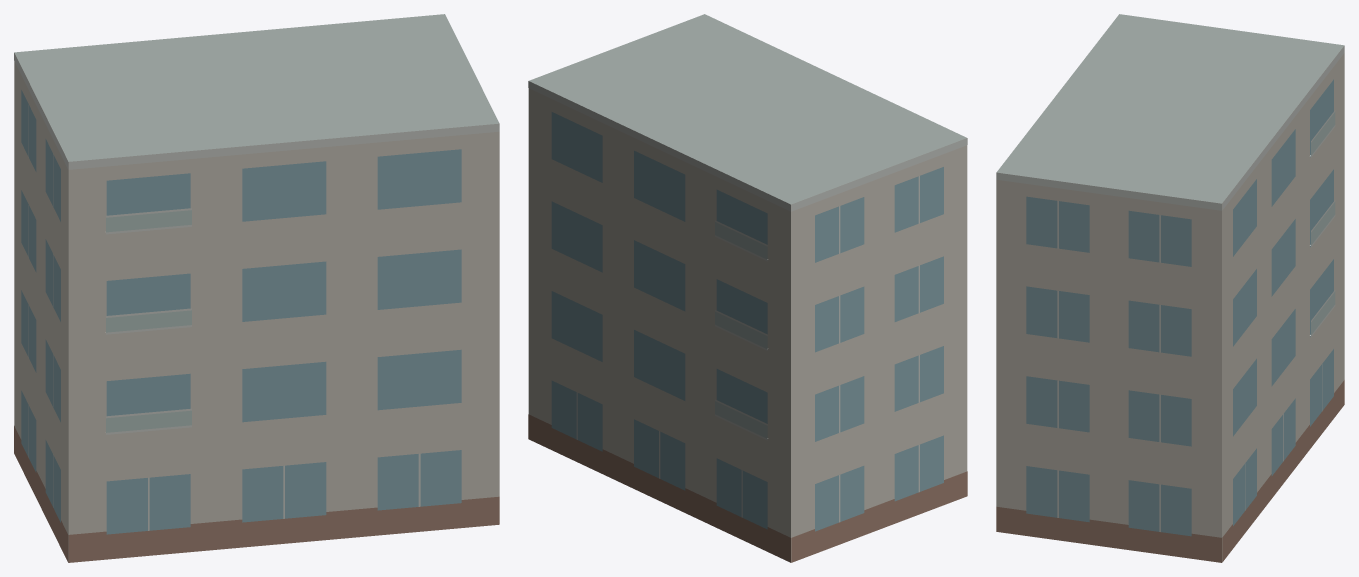
File: residential-6764f3ee-f19f-47d2-8cd8-a8683e6f9bc9.glb
3 renders of one model, left to right at view 1: azimuth 30°, elevation 25°; view 2: azimuth 150°, elevation 25°; view 3: azimuth 270°, elevation 25°, orthographic. The views are drawn at different scales.
Parts seen in each view (by area): view 1: residential-6764f3ee-f19f-47d2-8cd8-a8683e6f9bc9.tmp; view 2: residential-6764f3ee-f19f-47d2-8cd8-a8683e6f9bc9.tmp; view 3: residential-6764f3ee-f19f-47d2-8cd8-a8683e6f9bc9.tmp.
Part boxes in pixels (<box>): residential-6764f3ee-f19f-47d2-8cd8-a8683e6f9bc9.tmp: <box>14,14,499,562</box>; residential-6764f3ee-f19f-47d2-8cd8-a8683e6f9bc9.tmp: <box>528,14,967,562</box>; residential-6764f3ee-f19f-47d2-8cd8-a8683e6f9bc9.tmp: <box>996,14,1344,562</box>.
Bounding box in the file's own units: 13.82 × 12.2 × 10.73.
